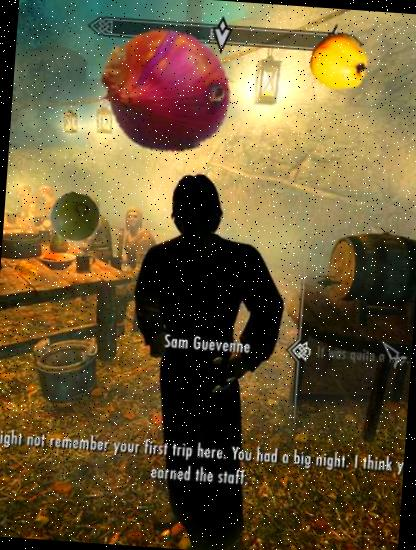Grape: (48, 190, 102, 244)
Onion: (92, 17, 240, 164)
Quince: (307, 30, 370, 92)
